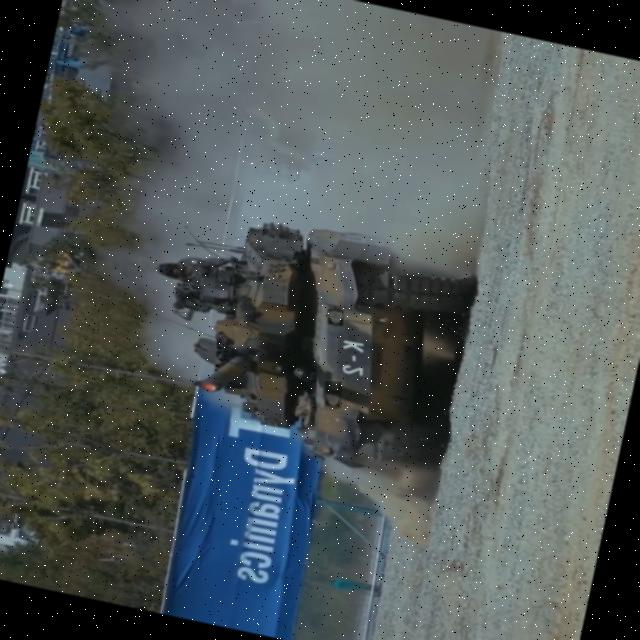korea tank: (124, 194, 486, 487)
